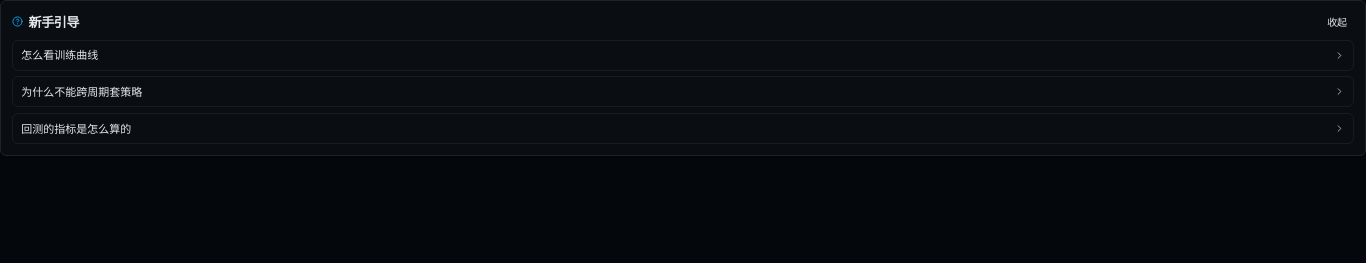
Scenario: AlphaMiningGuide 教学文案 › 跨周期主题正文强调按周期回测 + 数据源覆盖
Click the button "为什么不能跨周期套策略" at (82, 91), box [13,77,1353,106]
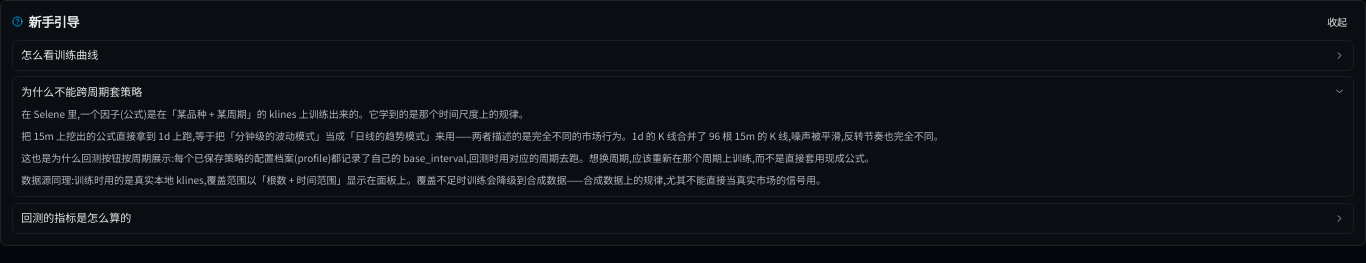
Expected: the text "base_interval" is shown, [21,150,875,165]
Expected: the text "合成数据" is shown, [21,172,826,186]
